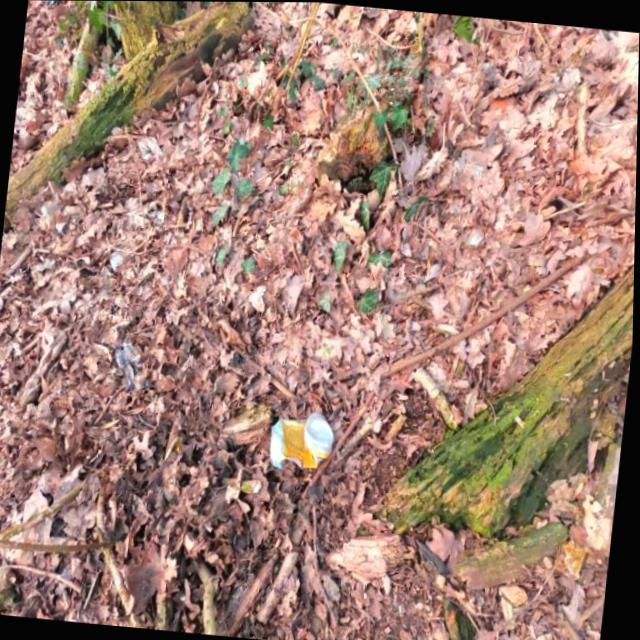Can-Metal: (249, 396, 350, 488)
